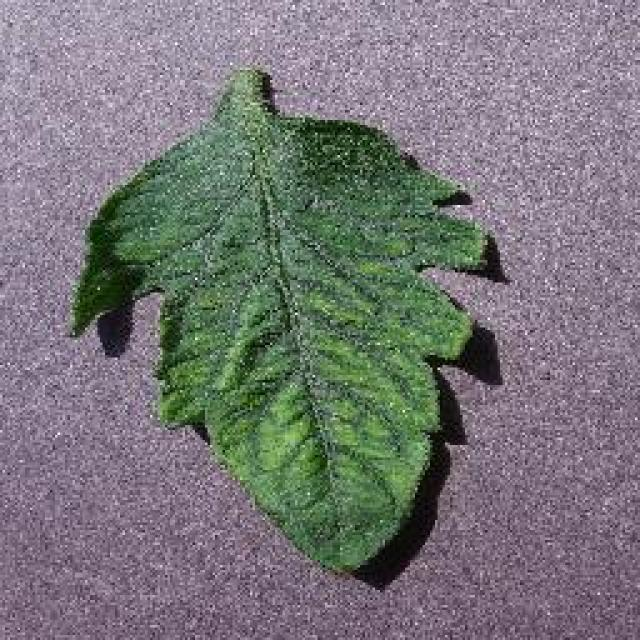Tomato spider mites leaf: (64, 112, 498, 580)
